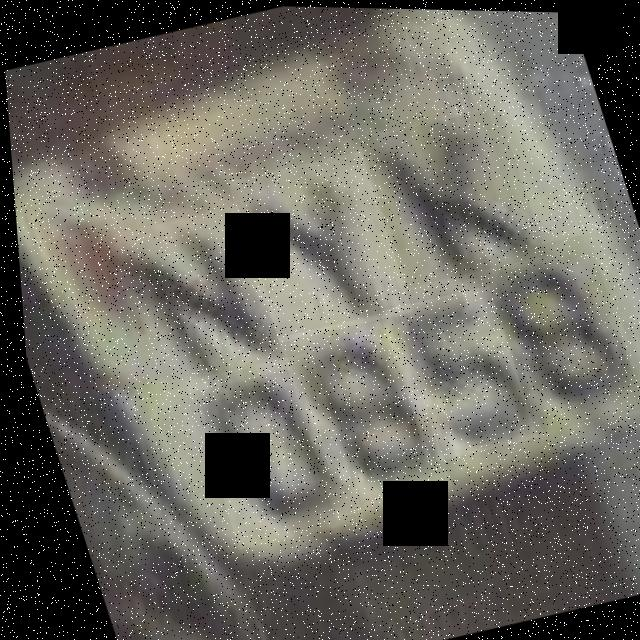0: (177, 348, 359, 551)
5: (373, 281, 532, 463)
8: (271, 306, 448, 518), (464, 228, 640, 436)
K: (356, 102, 544, 288)
N: (108, 201, 288, 399)
Y: (223, 146, 410, 343)
